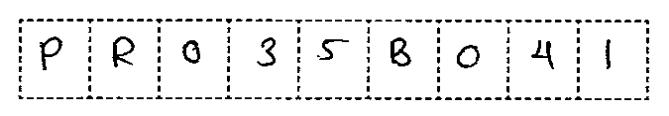0: (452, 40, 484, 76), (177, 36, 204, 69)
1: (590, 33, 626, 75)
3: (252, 34, 280, 70)
4: (527, 34, 563, 71)
5: (311, 34, 353, 66)
B: (383, 33, 419, 71)
P: (35, 33, 68, 75)
R: (106, 32, 141, 72)
